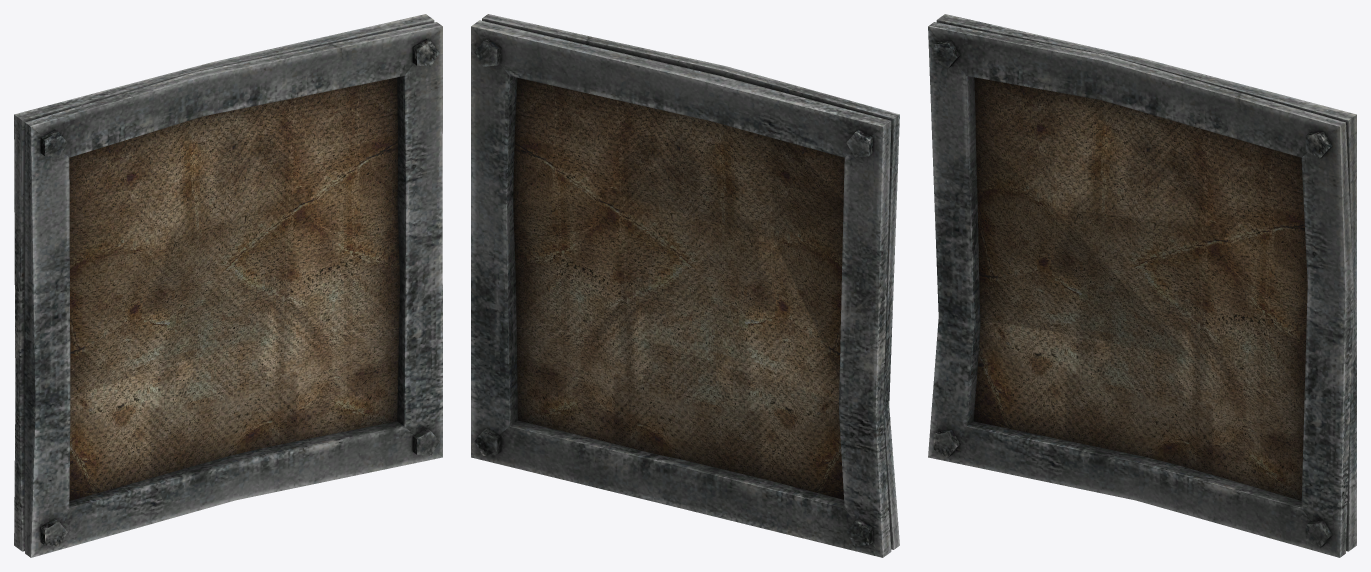
Rendered from stencil01.dae.
3 renders of one model, left to right at view 1: azimuth 30°, elevation 25°; view 2: azimuth 150°, elevation 25°; view 3: azimuth 330°, elevation 25°, orthographic.
Visible parts, largest first — view 1: stencil_paper01, stencil_frame01; view 2: stencil_paper01, stencil_frame01; view 3: stencil_paper01, stencil_frame01.
Part boxes in pixels (box(x1,y1,x2,y2)): stencil_paper01: box(69, 77, 399, 500); stencil_frame01: box(14, 14, 442, 557); stencil_paper01: box(513, 77, 844, 499); stencil_frame01: box(471, 14, 899, 557); stencil_paper01: box(973, 77, 1307, 500); stencil_frame01: box(928, 14, 1356, 557).
Bounding box in the file's own units: 0.2191 × 0.221 × 0.023.
